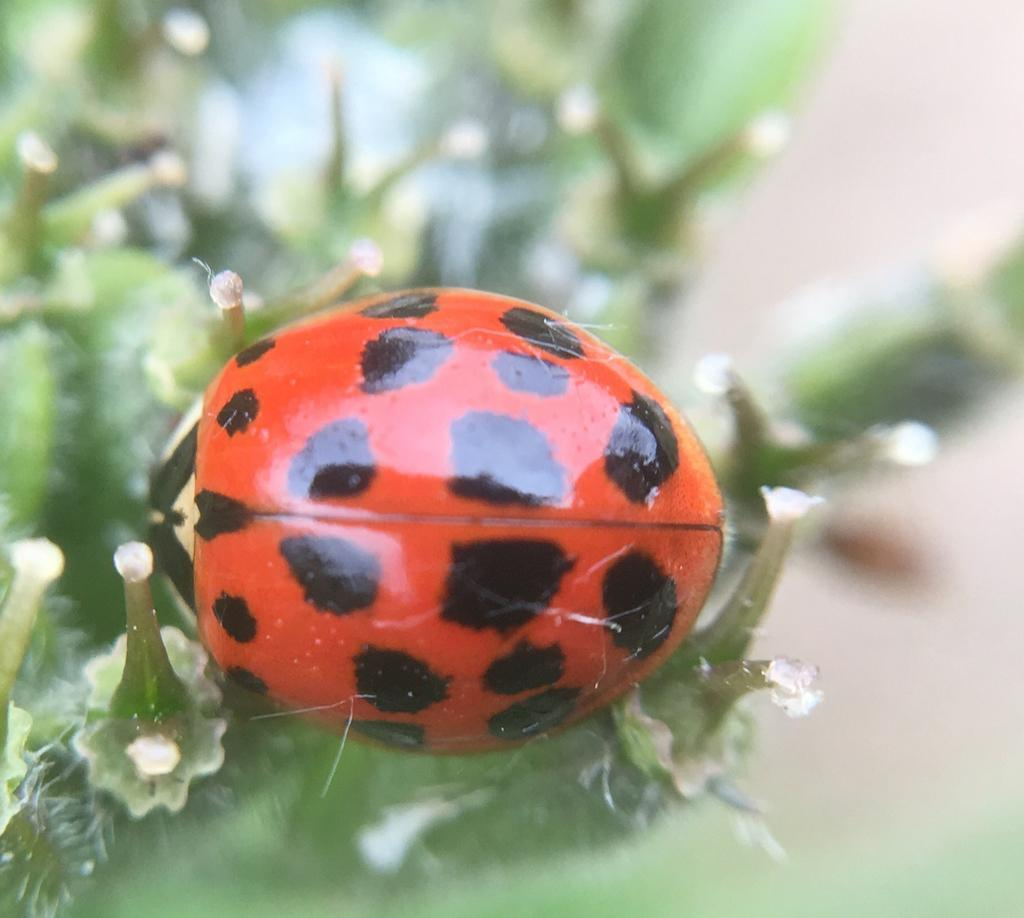ladybug: (141, 284, 731, 761)
